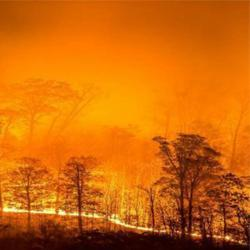fire: (4, 204, 101, 218), (109, 213, 129, 226)
